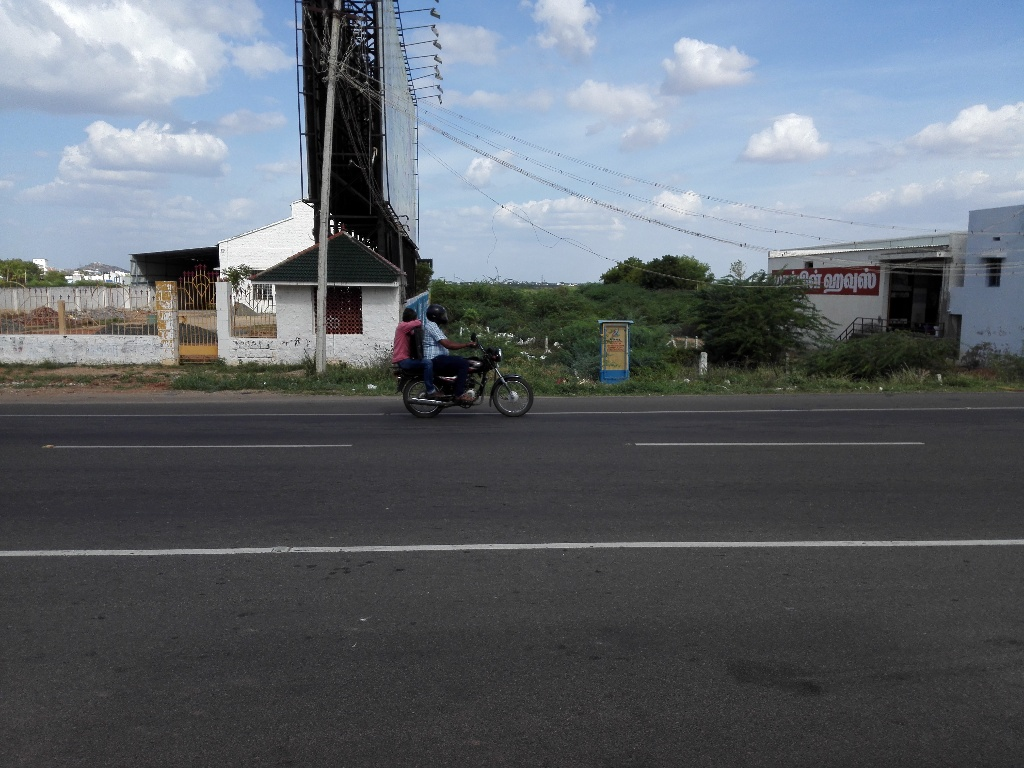biker: (378, 262, 547, 432)
helmet: (424, 297, 453, 330)
nohelmet: (394, 296, 423, 329)
